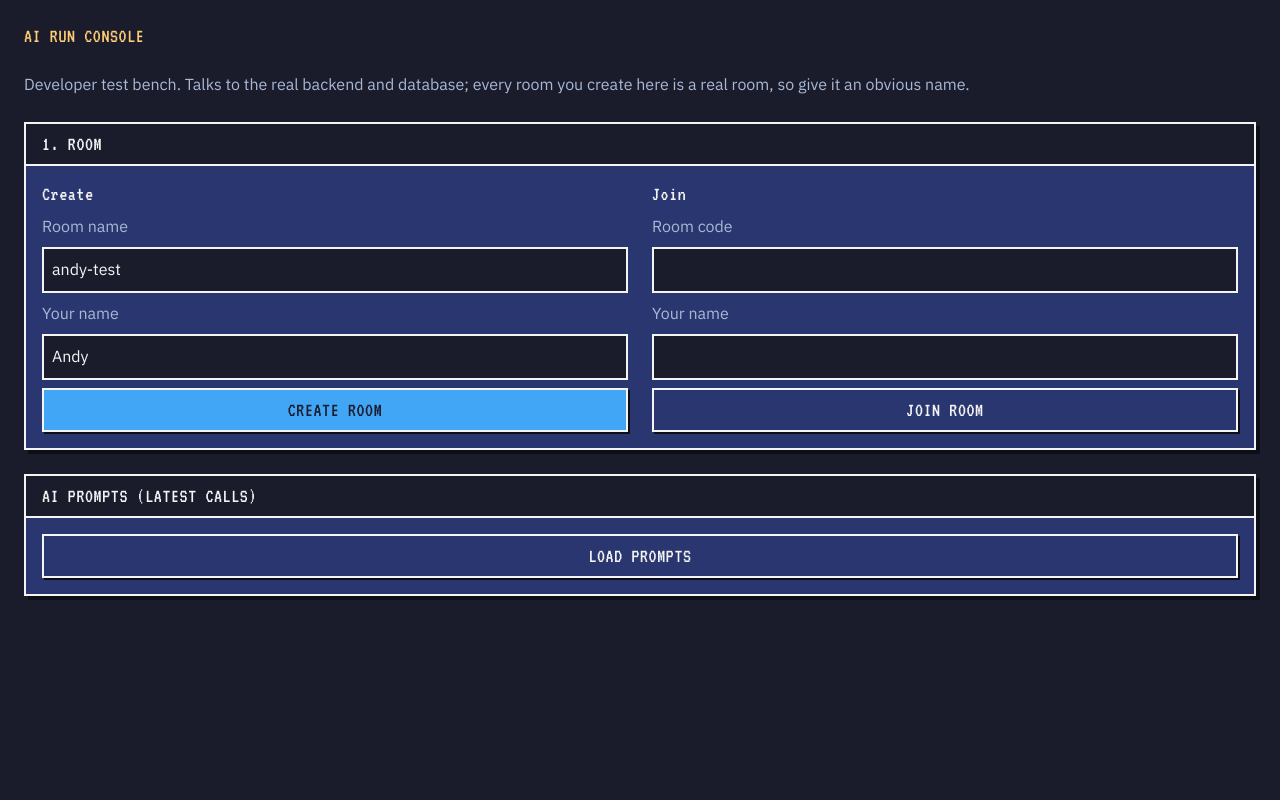
Test: DevRunConsole › creating a room shows its code and unlocks the rest of the console
Click the button "Create room".
click(335, 410)  # box [42,388,628,432]
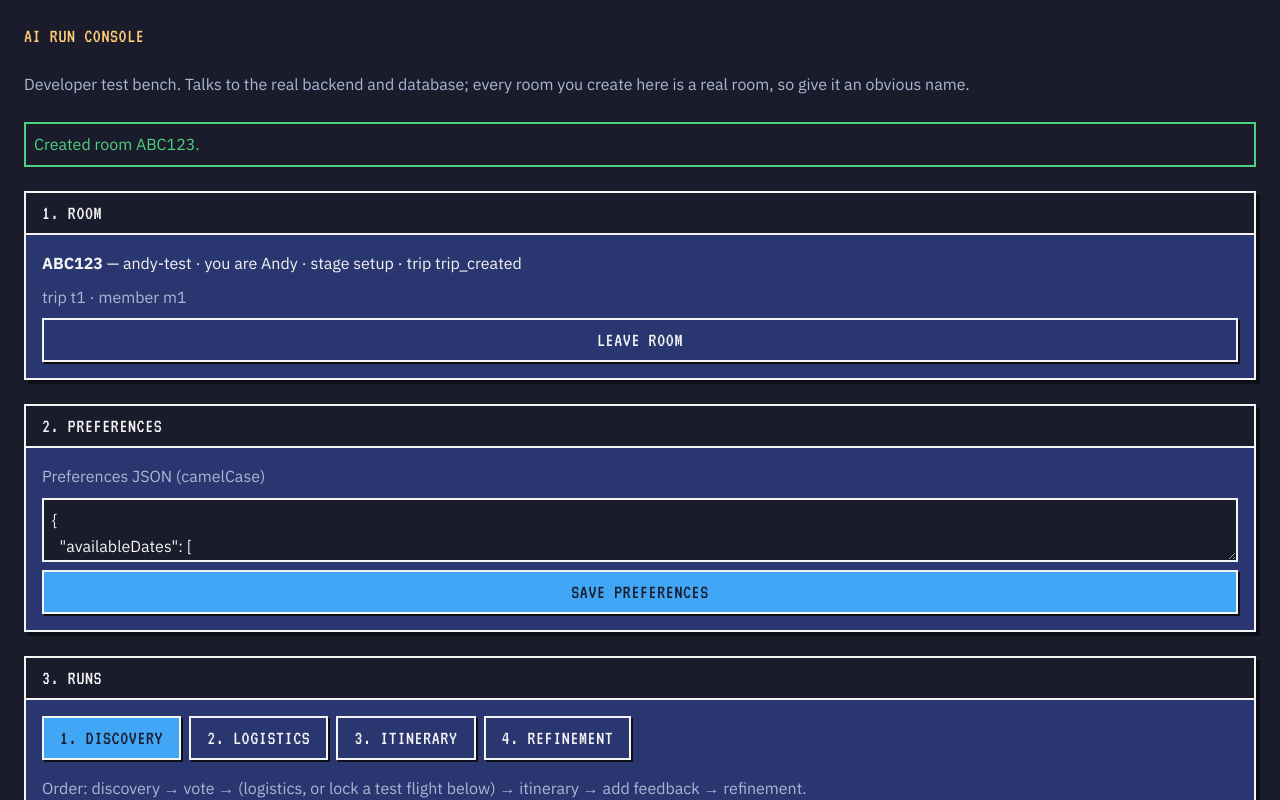
Expected: the text with test id "room-code" reads "ABC123", [42,253,103,273]
Expected: the button with aria-label "start discovery run" is shown, [42,716,181,760]
Expected: the button "Save preferences" is shown, [42,570,1238,614]
